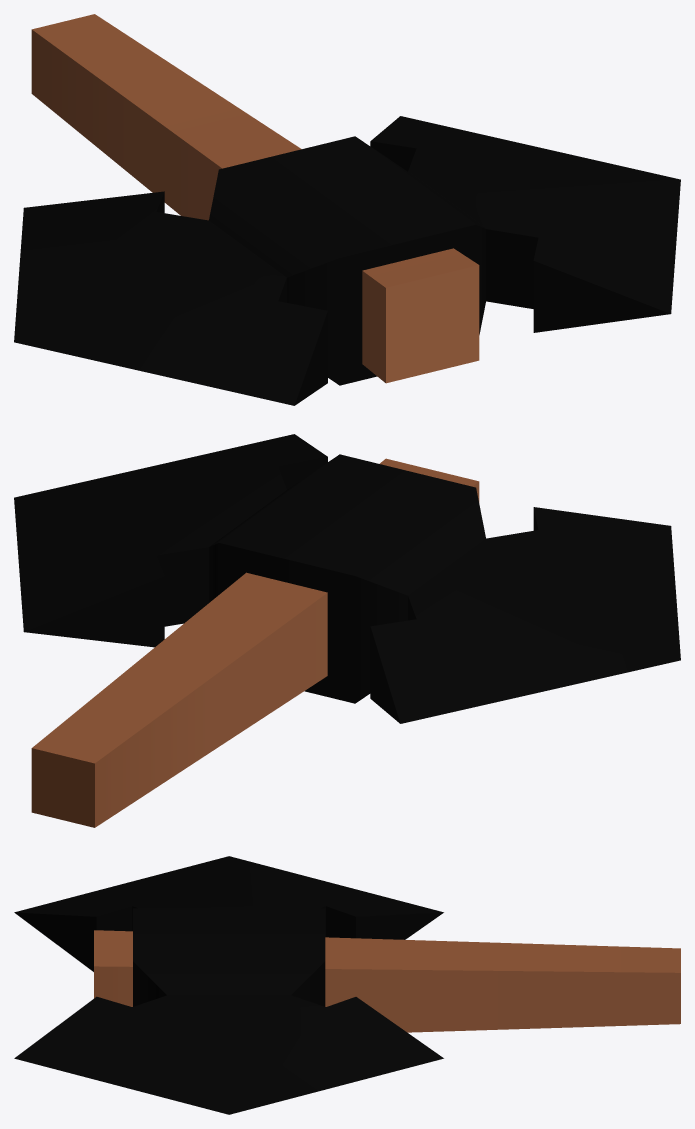
Rendered from Axe.FBX.
3 views of the same model, one above another, from view 1: azimuth 30°, elevation 25°; view 2: azimuth 150°, elevation 25°; view 3: azimuth 270°, elevation 25° (orthographic). The views are drawn at different scales.
Parts seen in each view (by area): view 1: Axe; view 2: Axe; view 3: Axe.
Part boxes in pixels (x1,y1,x2,y2): Axe: (14,14,680,405); Axe: (14,434,680,827); Axe: (14,856,680,1114).
Size of the model in its own units: 52.33 by 9.57 by 57.01.
